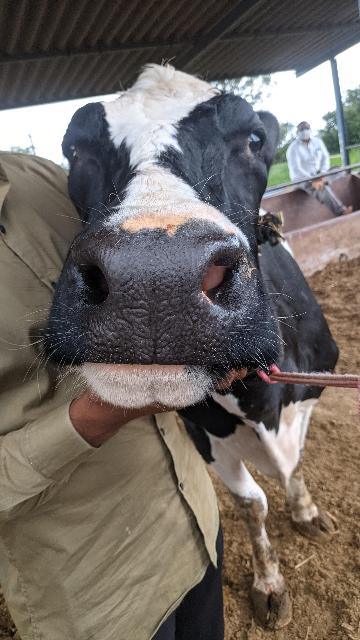Muzzle: (98, 242, 222, 361)
